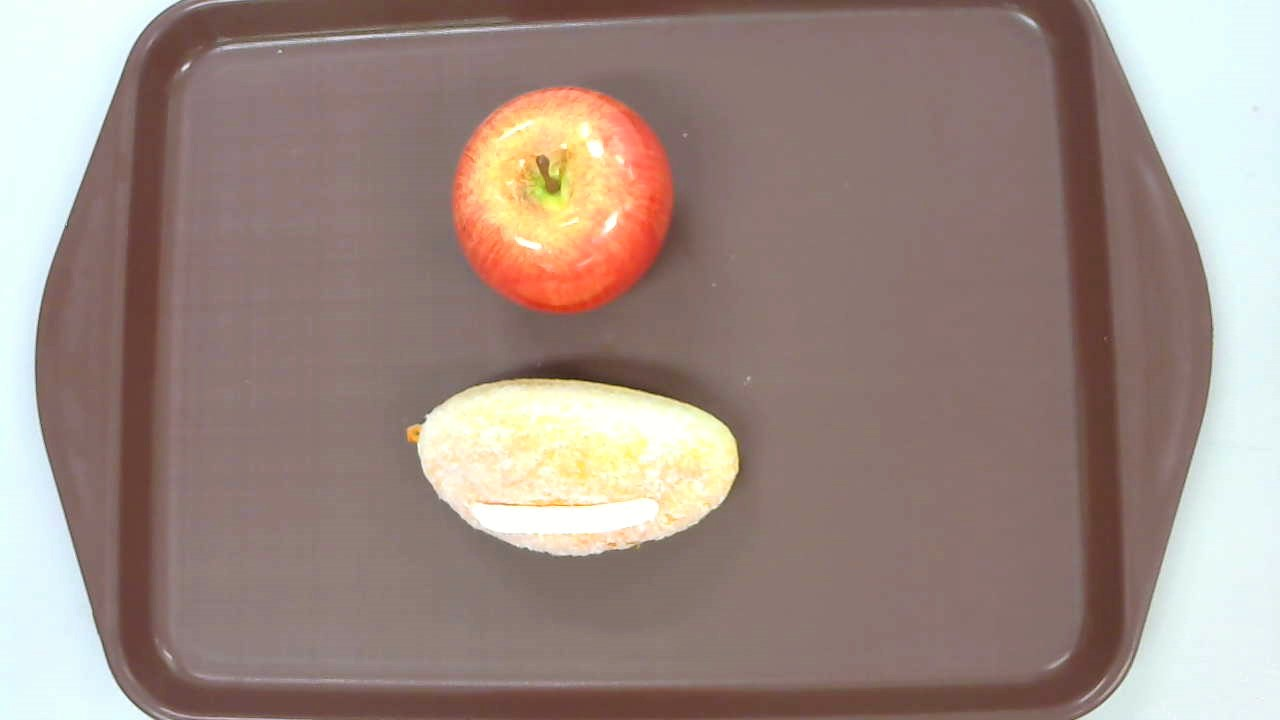coconut: (405, 377, 741, 556)
red apple: (451, 85, 675, 316)
